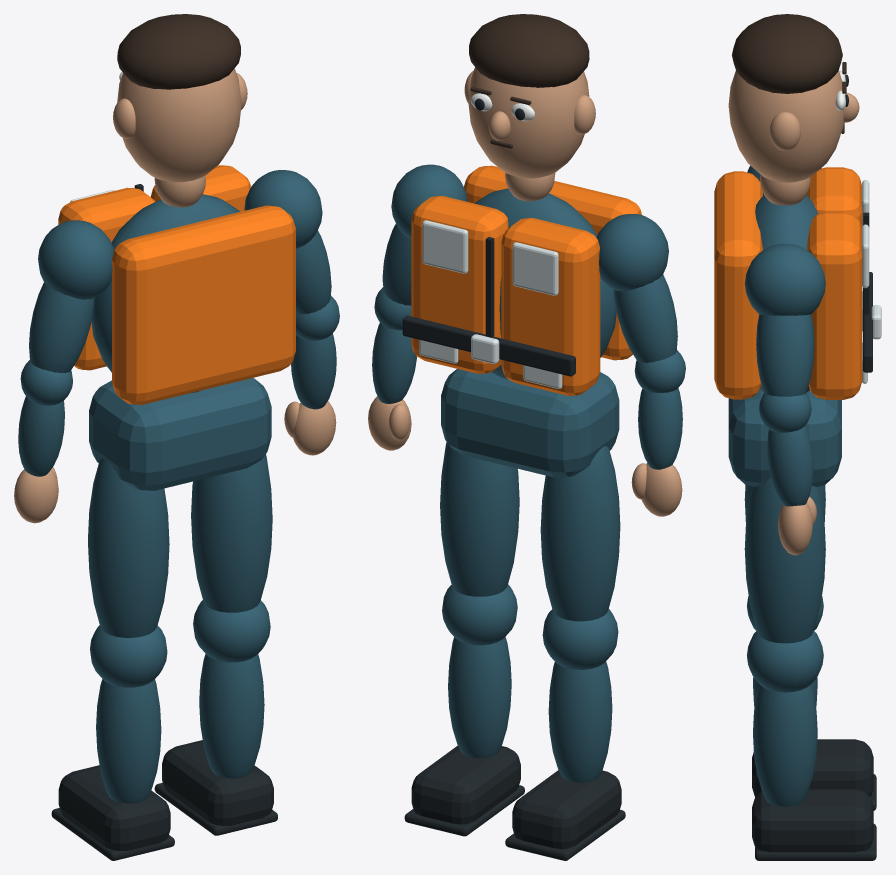
Rendered from RescuePerson_Standing.fbx.
3 renders of one model, left to right at view 1: azimuth 30°, elevation 25°; view 2: azimuth 150°, elevation 25°; view 3: azimuth 270°, elevation 25°, orthographic. The views are drawn at different scales.
Visible parts, largest first — view 1: PERSON___Life_jacket_back, PERSON___Hip_trousers, PERSON___Upper_trouser_leg_L, PERSON___Upper_trouser_leg_R, PERSON___Head, PERSON___Short_hair_cap, PERSON___Lower_trouser_leg_R, PERSON___Lower_trouser_leg_L, PERSON___Boot_L, PERSON___Boot_R, PERSON___Shoulder_L, PERSON___Sleeve_L (+17 smaller); view 2: PERSON___Hip_trousers, PERSON___Life_jacket_front_float, PERSON___Upper_trouser_leg_L, PERSON___Upper_trouser_leg_R, PERSON___Life_jacket_front_float_001, PERSON___Head, PERSON___Short_hair_cap, PERSON___Lower_trouser_leg_L, PERSON___Lower_trouser_leg_R, PERSON___Boot_L, PERSON___Boot_R, PERSON___Shoulder_L (+25 smaller); view 3: PERSON___Life_jacket_back, PERSON___Upper_trouser_leg_R, PERSON___Life_jacket_front_float_001, PERSON___Head, PERSON___Short_hair_cap, PERSON___Boot_R, PERSON___Lower_trouser_leg_R, PERSON___Hip_trousers, PERSON___Shoulder_R, PERSON___Sleeve_R, PERSON___Knee_R, PERSON___Boot_L (+10 smaller).
Boxes of the visible parts, <box> form: PERSON___Life_jacket_back: <box>112,205,295,404</box>; PERSON___Hip_trousers: <box>89,377,271,490</box>; PERSON___Upper_trouser_leg_L: <box>88,458,169,637</box>; PERSON___Upper_trouser_leg_R: <box>191,454,272,612</box>; PERSON___Head: <box>117,68,241,182</box>; PERSON___Short_hair_cap: <box>117,14,240,89</box>; PERSON___Lower_trouser_leg_R: <box>199,654,264,778</box>; PERSON___Lower_trouser_leg_L: <box>96,679,161,803</box>; PERSON___Boot_L: <box>58,765,170,851</box>; PERSON___Boot_R: <box>162,740,273,825</box>; PERSON___Shoulder_L: <box>38,220,114,299</box>; PERSON___Sleeve_L: <box>29,282,94,372</box>; PERSON___Hip_trousers: <box>441,369,619,477</box>; PERSON___Life_jacket_front_float: <box>501,218,600,395</box>; PERSON___Upper_trouser_leg_L: <box>540,446,620,621</box>; PERSON___Upper_trouser_leg_R: <box>440,442,519,596</box>; PERSON___Life_jacket_front_float_001: <box>411,196,508,373</box>; PERSON___Head: <box>468,67,589,178</box>; PERSON___Short_hair_cap: <box>469,14,589,87</box>; PERSON___Lower_trouser_leg_L: <box>548,661,612,782</box>; PERSON___Lower_trouser_leg_R: <box>448,637,511,757</box>; PERSON___Boot_L: <box>512,770,621,848</box>; PERSON___Boot_R: <box>411,745,520,824</box>; PERSON___Shoulder_L: <box>596,214,668,291</box>; PERSON___Life_jacket_back: <box>714,171,762,399</box>; PERSON___Upper_trouser_leg_R: <box>744,478,825,643</box>; PERSON___Life_jacket_front_float_001: <box>807,212,862,399</box>; PERSON___Head: <box>728,70,844,182</box>; PERSON___Short_hair_cap: <box>732,14,842,93</box>; PERSON___Boot_R: <box>752,789,873,852</box>; PERSON___Lower_trouser_leg_R: <box>753,684,817,806</box>; PERSON___Hip_trousers: <box>728,390,841,486</box>; PERSON___Shoulder_R: <box>744,244,825,315</box>; PERSON___Sleeve_R: <box>756,314,814,396</box>; PERSON___Knee_R: <box>747,630,823,692</box>; PERSON___Boot_L: <box>752,739,873,796</box>.
Bounding box in the file's own units: 0.00896 × 0.0217 × 0.00412.
